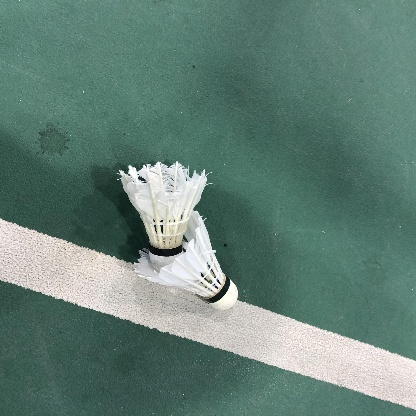ball_single: (119, 161, 239, 310)
